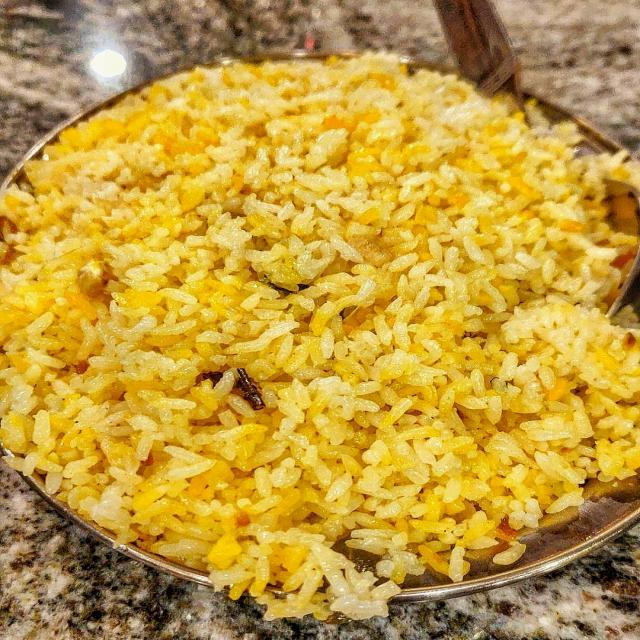biryani: (0, 69, 625, 634)
